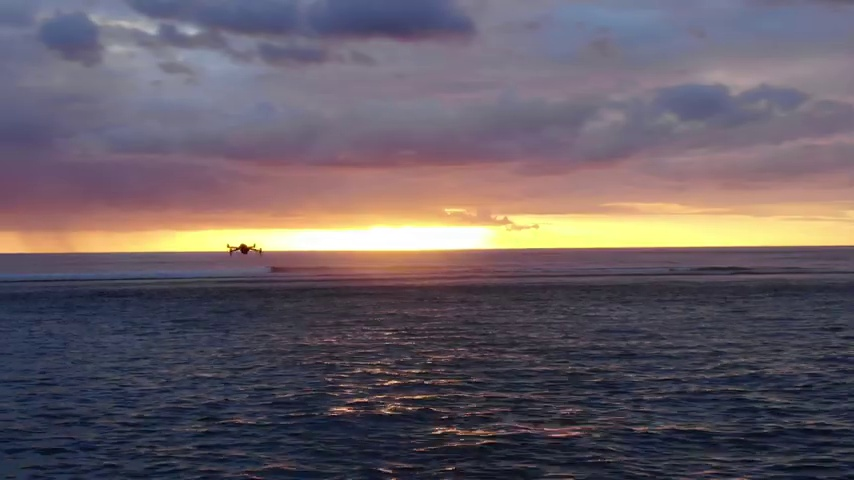drone: (225, 243, 261, 259)
